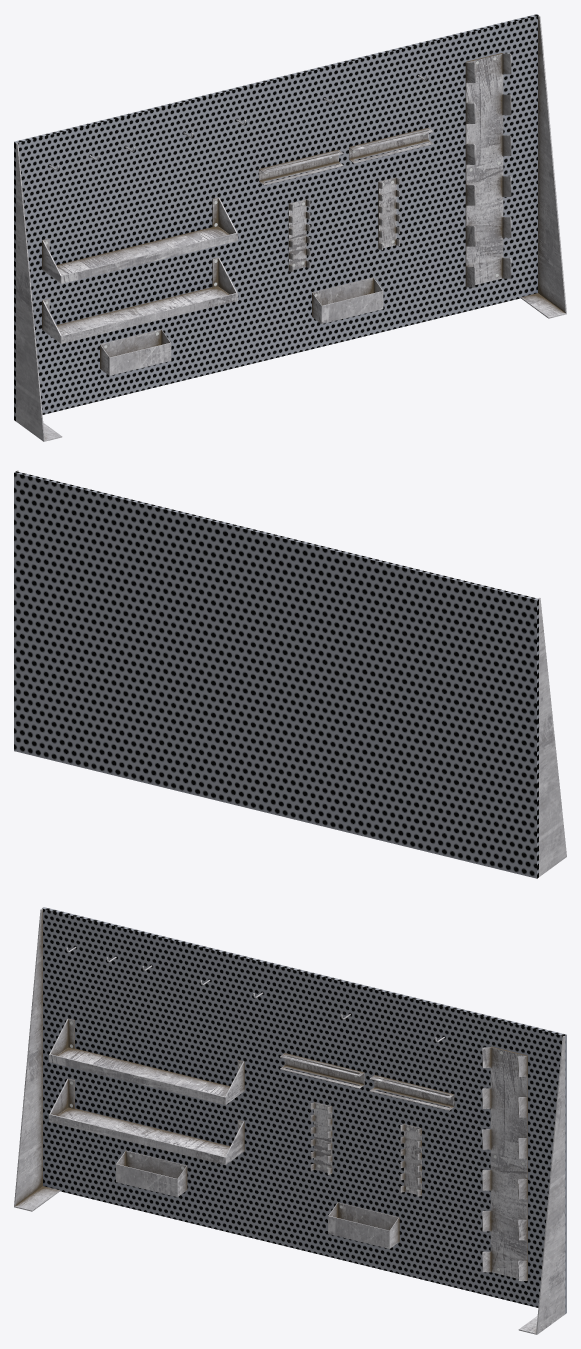
Rendered from ToolsWall01.FBX.
3 views of the same model, one above another, from view 1: azimuth 30°, elevation 25°; view 2: azimuth 150°, elevation 25°; view 3: azimuth 330°, elevation 25° (orthographic).
Parts seen in each view (by area): view 1: ToolsWall01_LOD0, ToolsWall01_Phy; view 2: ToolsWall01_LOD0, ToolsWall01_Phy; view 3: ToolsWall01_LOD0, ToolsWall01_Phy.
Part boxes in pixels (x1,y1,x2,y2): ToolsWall01_LOD0: (14, 14, 566, 441); ToolsWall01_Phy: (16, 128, 566, 441); ToolsWall01_LOD0: (14, 470, 566, 878); ToolsWall01_Phy: (539, 598, 566, 876); ToolsWall01_LOD0: (14, 907, 566, 1334); ToolsWall01_Phy: (16, 1019, 564, 1332).
Size of what is drawn, in the model's own units: 151 by 77 by 14.97.
